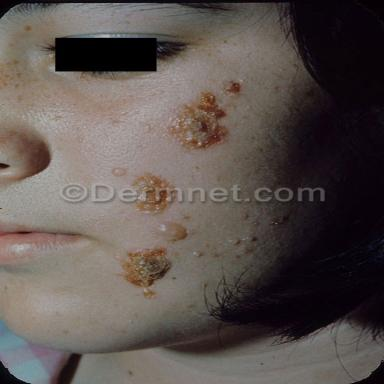Impetigo: (169, 92, 228, 149), (122, 247, 171, 298), (133, 173, 171, 188), (136, 201, 169, 213), (222, 80, 241, 95)
